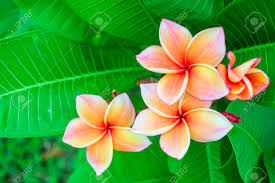frangipani: (63, 93, 151, 176)
